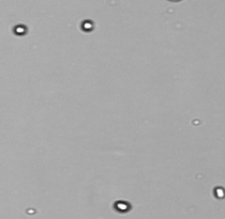Living Cell: (115, 200, 131, 213), (214, 185, 225, 199), (14, 24, 27, 35), (82, 20, 93, 31)
